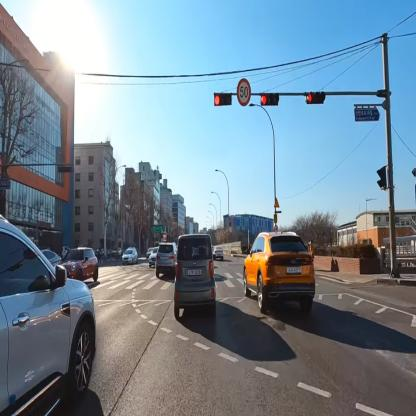red: (262, 93, 280, 110), (306, 92, 325, 106), (214, 94, 233, 106)
